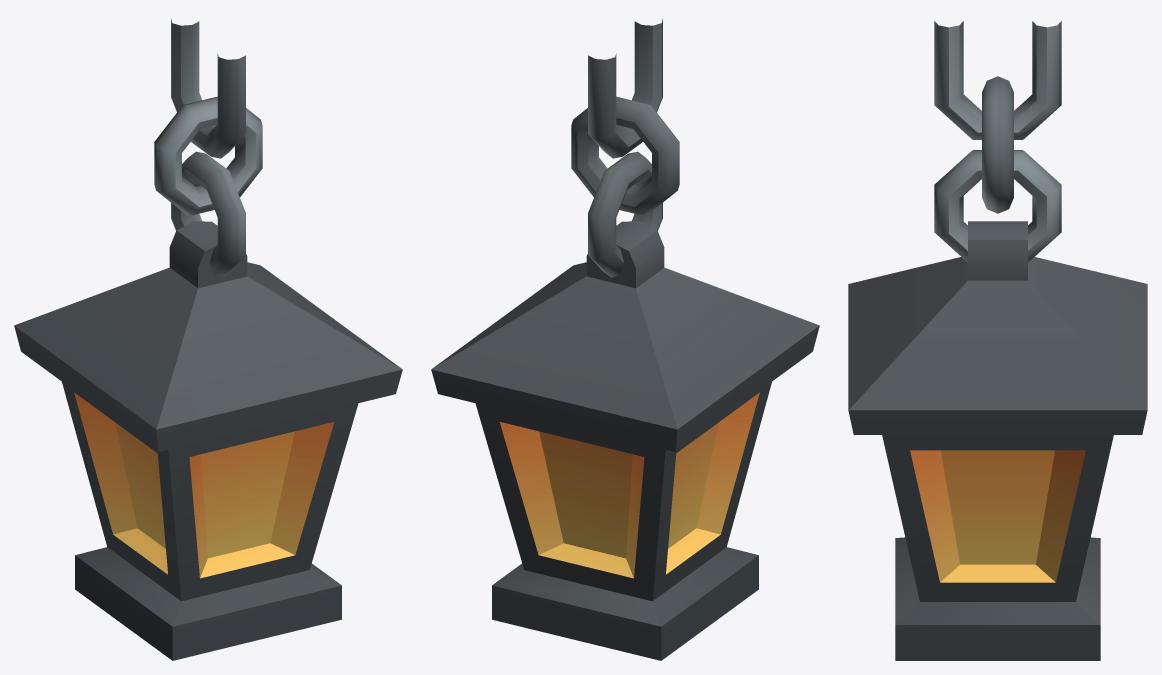
The model's file is hanging-lantern.glb.
The picture shows the model from 3 angles, left to right: view 1: azimuth 30°, elevation 25°; view 2: azimuth 150°, elevation 25°; view 3: azimuth 270°, elevation 25°; orthographic projection. The views are drawn at different scales.
Visible parts, largest first — view 1: lantern_hanging; view 2: lantern_hanging; view 3: lantern_hanging.
Part boxes in pixels (<box>): lantern_hanging: <box>14,19,402,660</box>; lantern_hanging: <box>431,19,819,660</box>; lantern_hanging: <box>848,21,1147,660</box>.
Size of the model in its own units: 0.64 by 1.41 by 0.64.
1 material, 1 textured.
